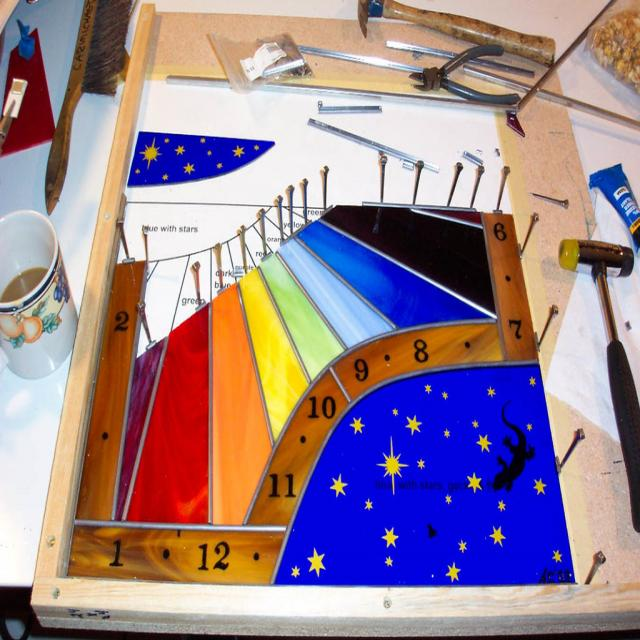Tea: (1, 265, 51, 304)
